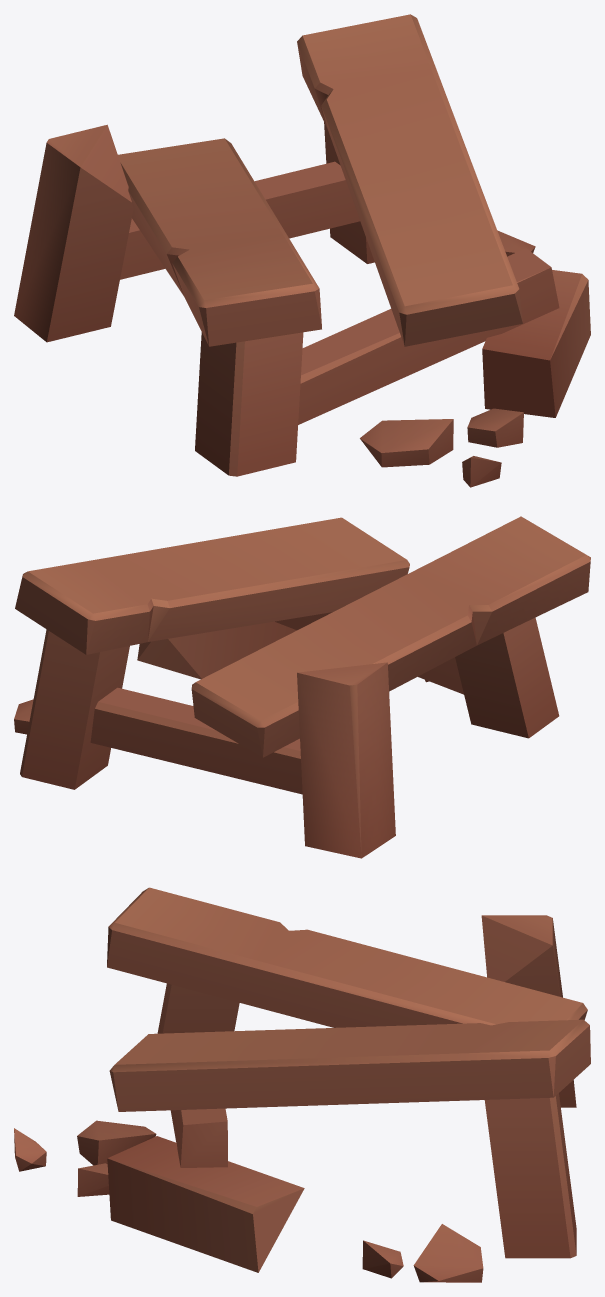
The model's file is table_medium_broken.glb.
The picture shows the model from 3 angles, top to bottom: view 1: azimuth 30°, elevation 25°; view 2: azimuth 150°, elevation 25°; view 3: azimuth 270°, elevation 25°; orthographic projection. The views are drawn at different scales.
Parts seen in each view (by area): view 1: table_medium_broken; view 2: table_medium_broken; view 3: table_medium_broken.
Part boxes in pixels (box(x1,y1,x2,y2)): table_medium_broken: box(14, 14, 590, 487); table_medium_broken: box(14, 516, 590, 858); table_medium_broken: box(14, 887, 590, 1282).
Size of the model in its own units: 2.28 by 0.9718 by 2.43.
1 material, 1 textured.
